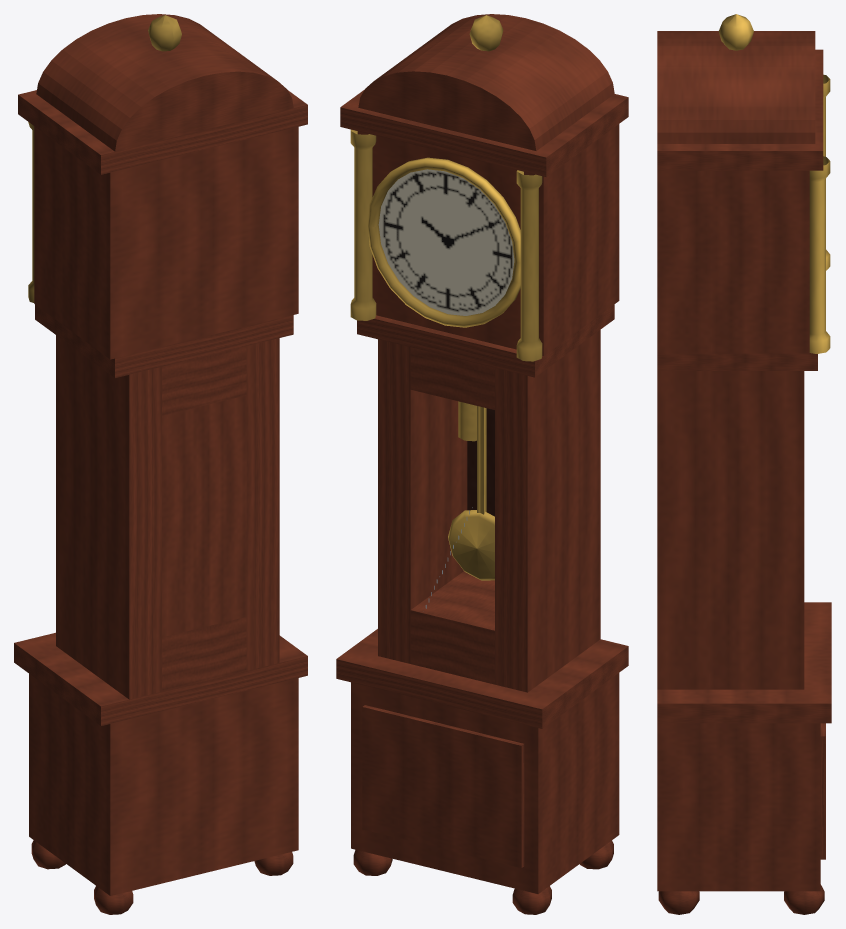
Rendered from grandfatherclock.obj.
3 views of the same model, side by side, from view 1: azimuth 30°, elevation 25°; view 2: azimuth 150°, elevation 25°; view 3: azimuth 270°, elevation 25° (orthographic).
Parts seen in each view (by area): view 1: grandfatherclock; view 2: grandfatherclock; view 3: grandfatherclock.
Boxes of the visible parts, x1,y1,x2,y2 form: grandfatherclock: [14, 14, 307, 914]; grandfatherclock: [336, 14, 628, 914]; grandfatherclock: [657, 14, 831, 914].
Size of the model in its own units: 0.55 by 2.17 by 0.4.
